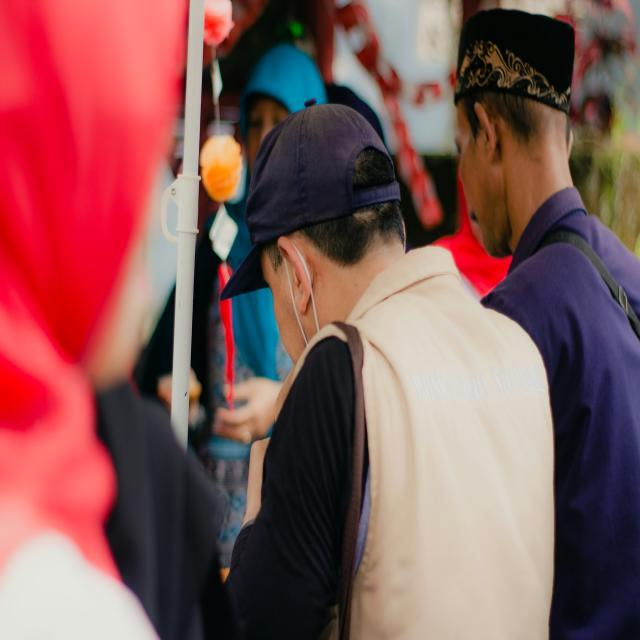hard_hat: (240, 44, 328, 127)
no_hard_hat: (221, 104, 400, 300), (454, 9, 575, 113)
person: (229, 105, 554, 640), (130, 42, 328, 640), (455, 9, 640, 640)
